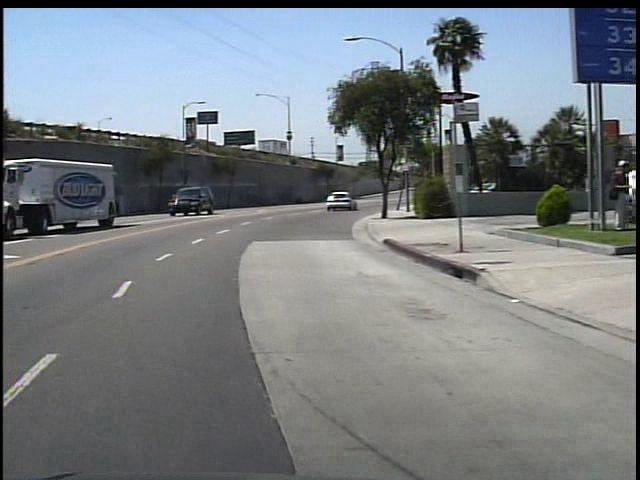person: (600, 156, 627, 234)
